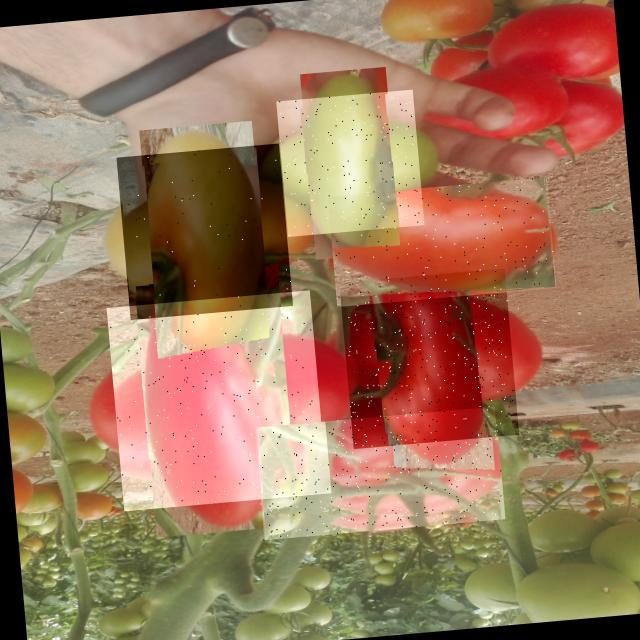Ripe Tomato: (106, 290, 327, 511), (252, 406, 504, 540), (338, 267, 518, 448), (327, 176, 556, 306)
Unripe Tomato: (116, 143, 293, 320), (276, 90, 424, 236)
